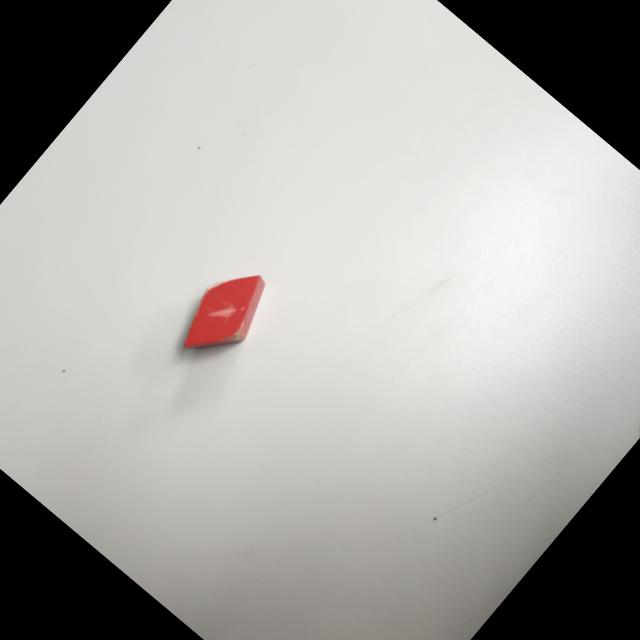broken: (167, 254, 282, 374)
